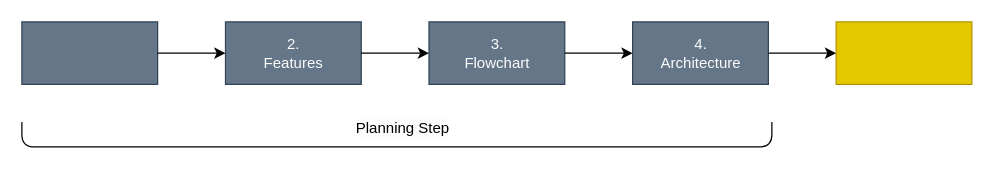
This 994x170 diagram has some shape labels left out. The box of each missing label's shape, as (x1, y1, x2, y2) in pixels:
1. User Stories: (21, 21, 158, 84)
Development step: (835, 21, 972, 84)
